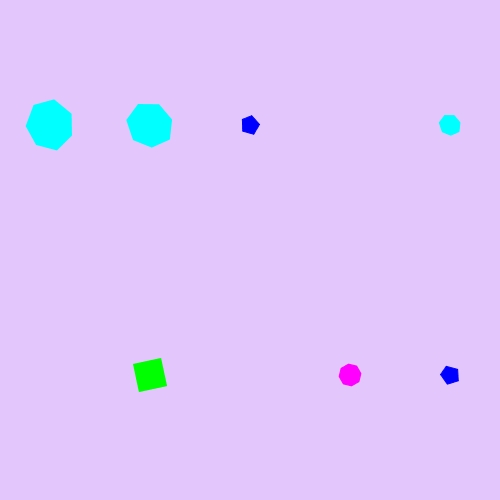heptagon: (22, 98, 79, 152), (123, 100, 177, 151), (435, 111, 465, 140)
octagon: (334, 359, 366, 391)
pentagon: (236, 111, 264, 139), (436, 361, 464, 389)
quadrilateral: (127, 352, 174, 399)
